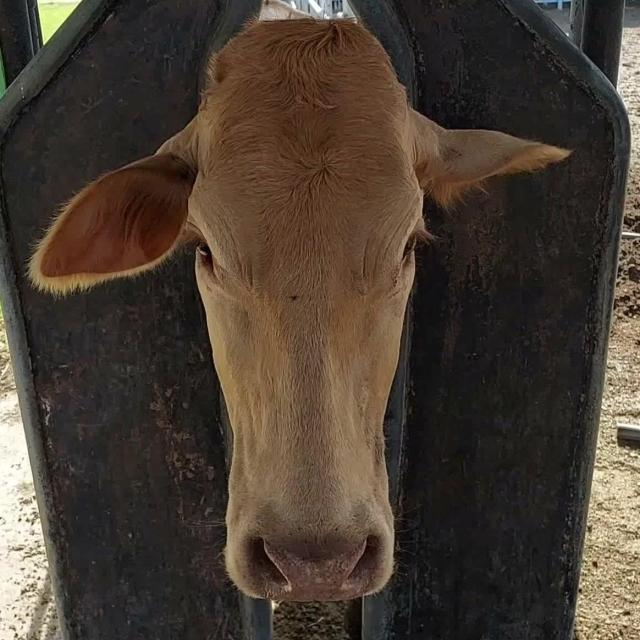cowFace: (183, 18, 424, 600)
